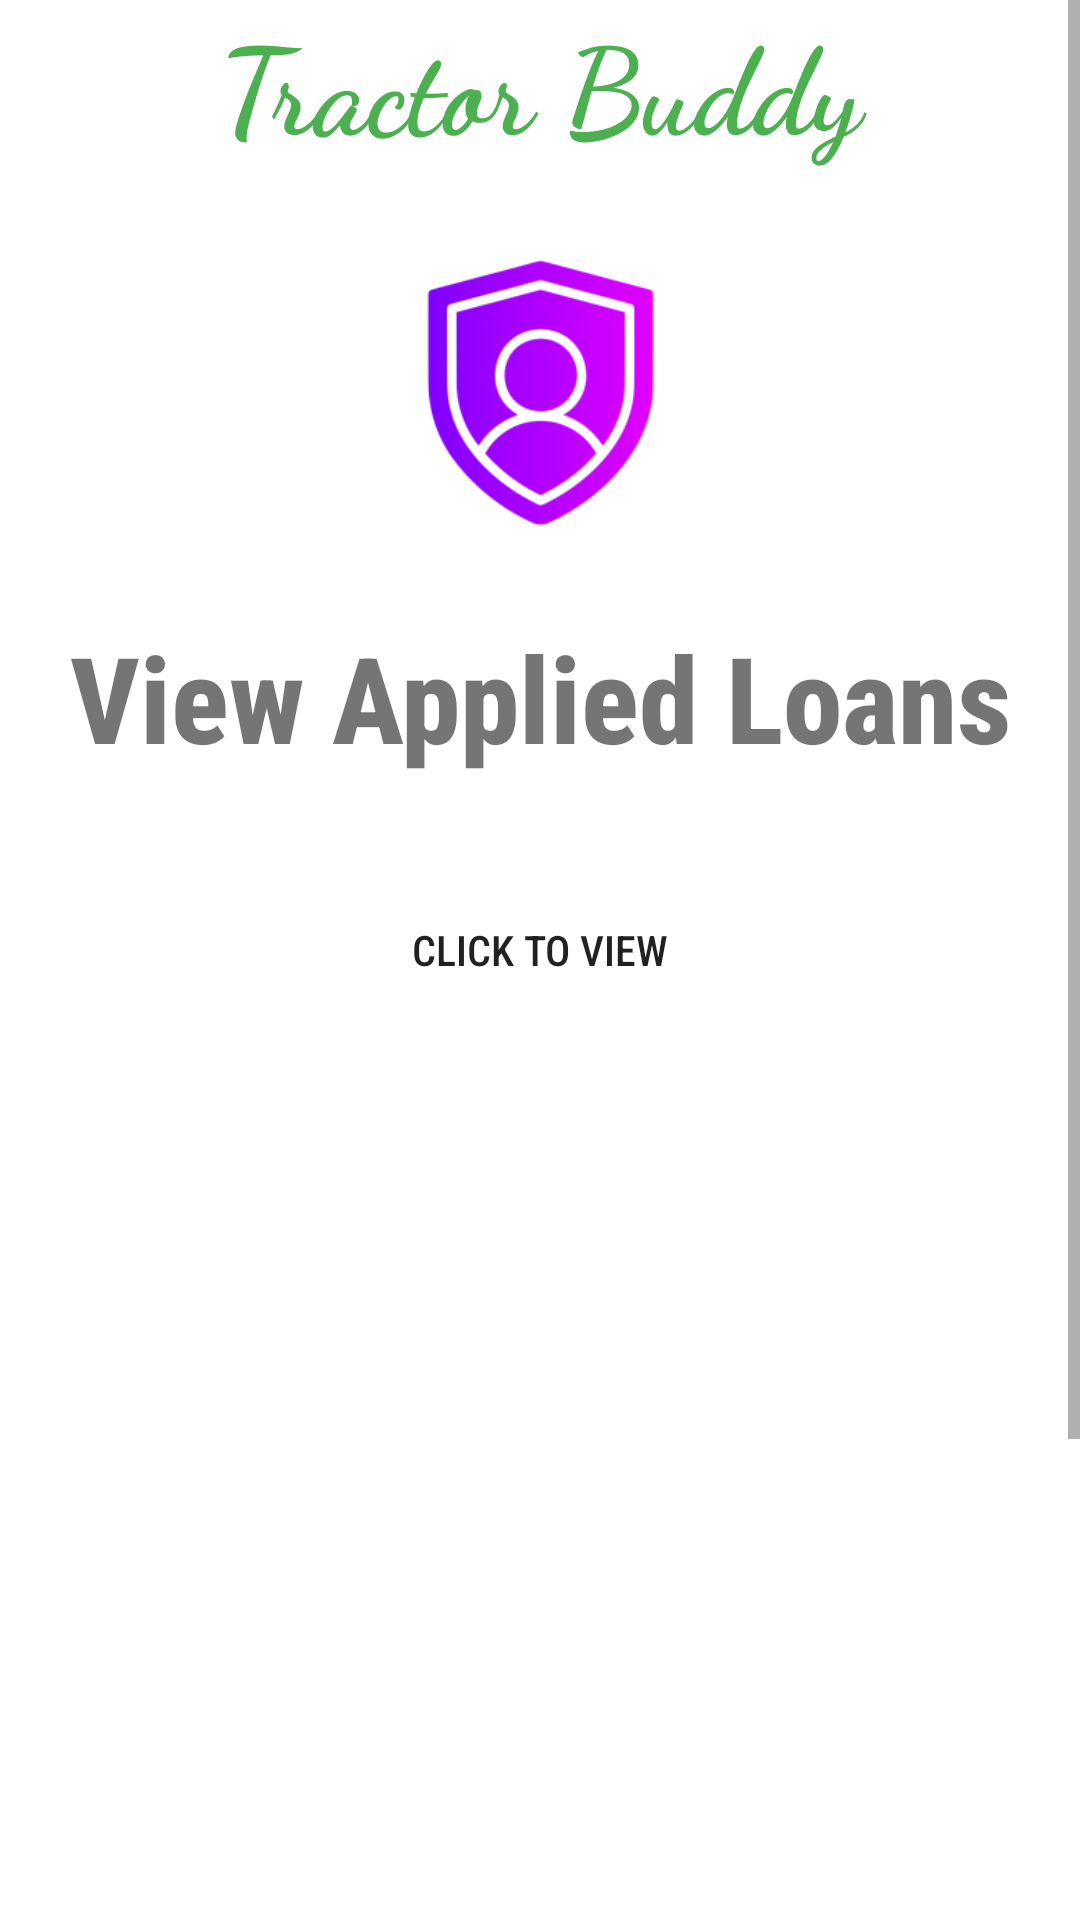

Locate icon controls on the screen. Image size 1080w x 1920h, boxes as (x1, y1, x2, y2).
admin: (427, 260, 654, 526)
